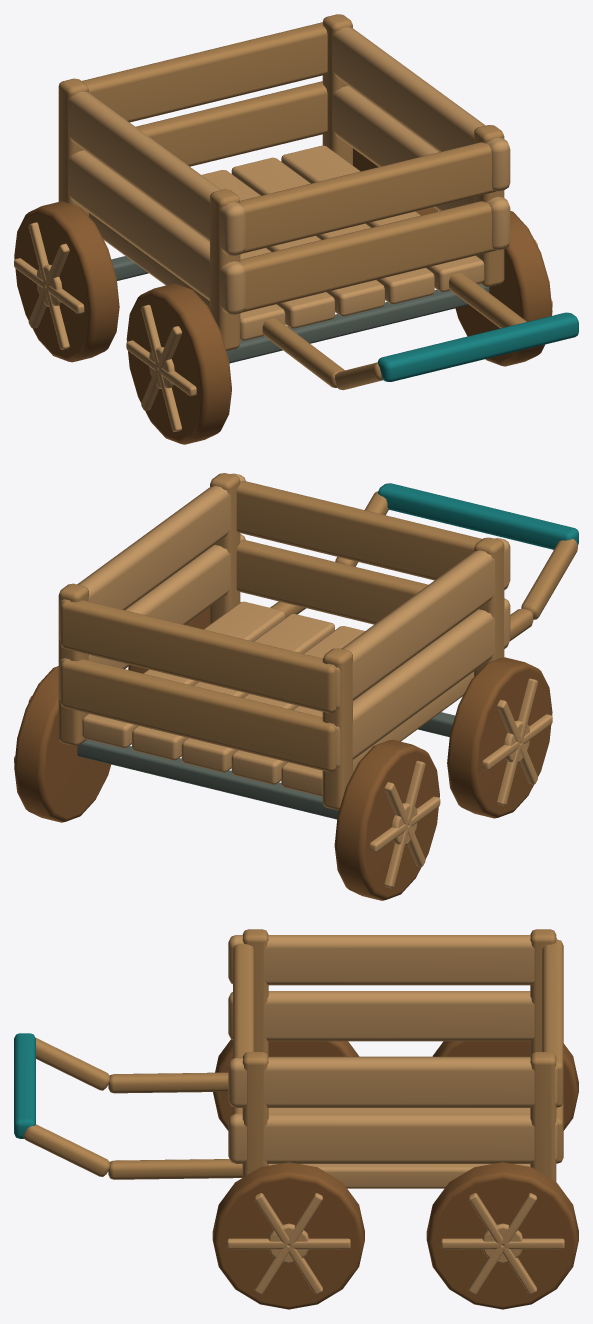
Rendered from cart.glb.
The picture shows the model from 3 angles, top to bottom: view 1: azimuth 30°, elevation 25°; view 2: azimuth 150°, elevation 25°; view 3: azimuth 270°, elevation 25°; orthographic projection. The views are drawn at different scales.
Visible parts, largest first — view 1: cart_FARM_VERTEX_COLOR; view 2: cart_FARM_VERTEX_COLOR; view 3: cart_FARM_VERTEX_COLOR.
Part boxes in pixels (<box>): cart_FARM_VERTEX_COLOR: <box>14,14,578,444</box>; cart_FARM_VERTEX_COLOR: <box>14,473,578,900</box>; cart_FARM_VERTEX_COLOR: <box>14,929,578,1309</box>.
Size of the model in its own units: 1.68 by 1.1 by 2.38.
